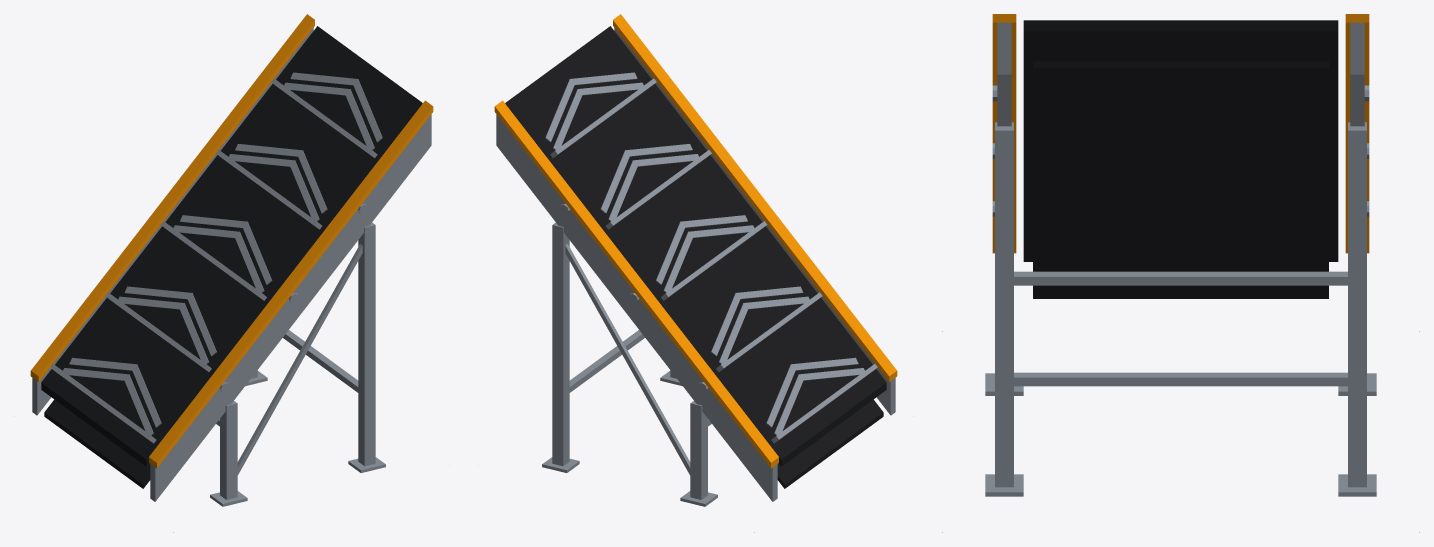
The model's file is convoyeur_rampe_t2.glb.
3 renders of one model, left to right at view 1: azimuth 30°, elevation 25°; view 2: azimuth 150°, elevation 25°; view 3: azimuth 270°, elevation 25°, orthographic. The views are drawn at different scales.
Parts seen in each view (by area): view 1: bande_porteuse.024, bande_acier.042, pieces_acier.048, longeron_-1.024, rive_-1.024, rive_1.024, bande_retour.024, longeron_1.024; view 2: bande_porteuse.024, bande_acier.042, pieces_acier.048, longeron_1.024, rive_1.024, rive_-1.024, bande_retour.024, longeron_-1.024; view 3: bande_retour.024, pieces_acier.048, bande_porteuse.024, rive_1.024, rive_-1.024, longeron_1.024, longeron_-1.024.
Boxes of the visible parts, x1,y1,x2,y2 form: bande_porteuse.024: [41, 26, 422, 466]; bande_acier.042: [50, 72, 382, 443]; pieces_acier.048: [210, 203, 385, 506]; longeron_-1.024: [150, 114, 431, 501]; rive_-1.024: [149, 100, 433, 468]; rive_1.024: [30, 14, 314, 381]; bande_retour.024: [44, 399, 150, 488]; longeron_1.024: [32, 28, 313, 415]; bande_porteuse.024: [505, 26, 886, 466]; bande_acier.042: [545, 72, 877, 443]; pieces_acier.048: [542, 203, 717, 506]; longeron_1.024: [496, 114, 777, 501]; rive_1.024: [494, 100, 778, 468]; rive_-1.024: [613, 14, 897, 381]; bande_retour.024: [777, 399, 883, 488]; longeron_-1.024: [614, 28, 895, 415]; bande_retour.024: [1033, 61, 1328, 298]; pieces_acier.048: [985, 85, 1376, 496]; bande_porteuse.024: [1023, 20, 1338, 261]; rive_1.024: [1345, 14, 1369, 253]; rive_-1.024: [992, 14, 1016, 253]; longeron_1.024: [1350, 22, 1364, 126]; longeron_-1.024: [997, 22, 1011, 126].
Size of the model in its own units: 1 by 1.2 by 1.
